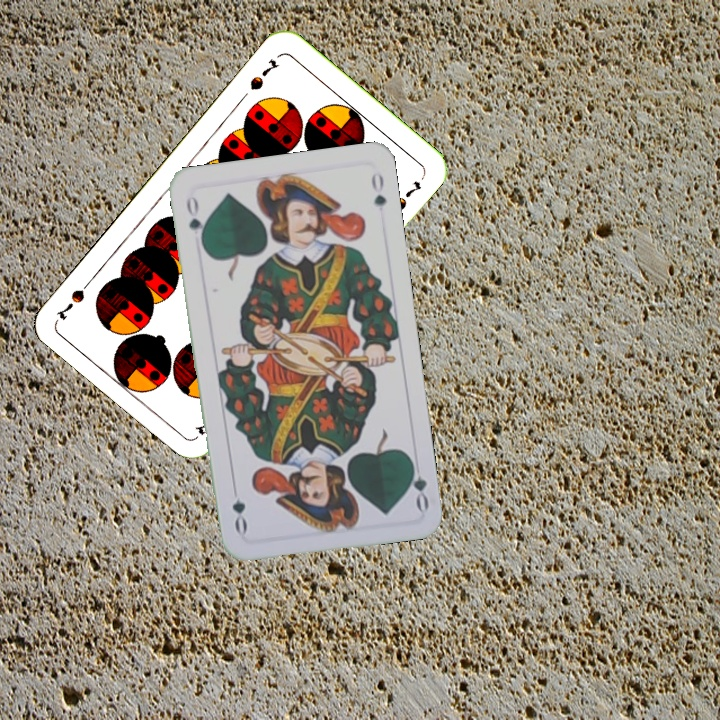GO: (403, 453, 432, 513), (182, 191, 208, 249)
S7: (245, 54, 282, 93)
